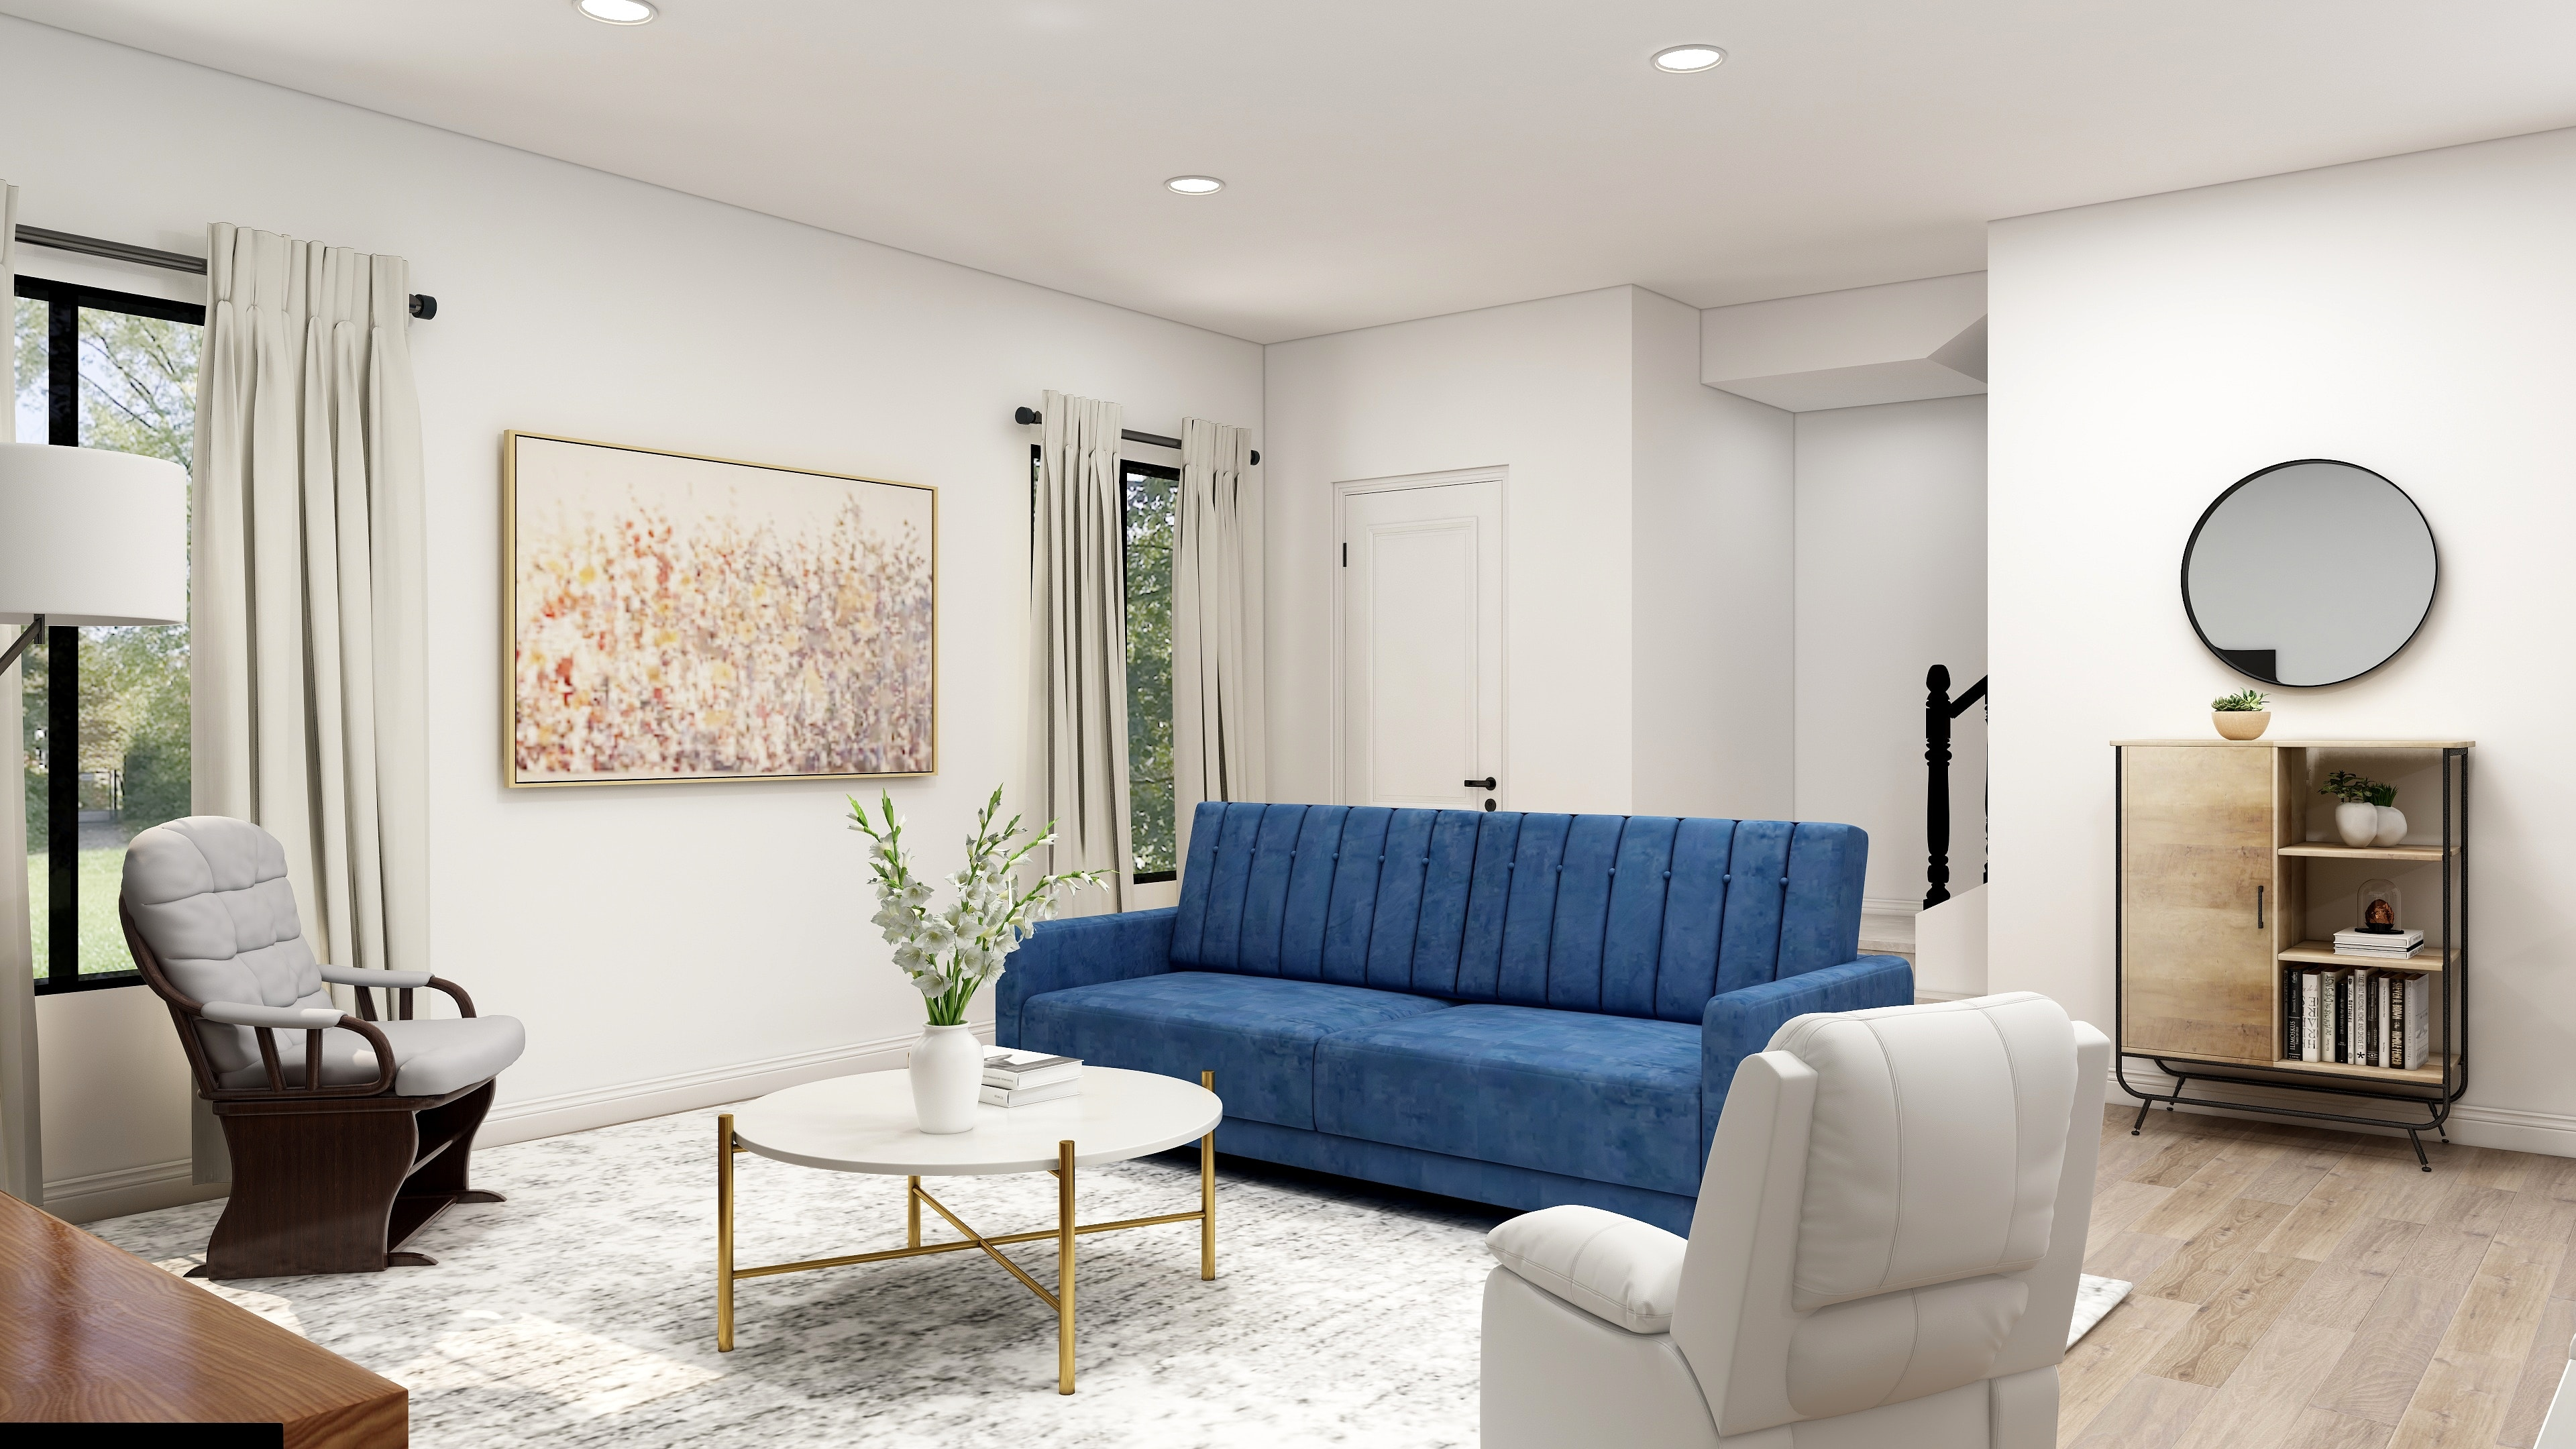Chair: (96, 795, 534, 1299)
Painting: (486, 426, 960, 783)
Plant: (834, 792, 1110, 1131)
Sofa: (969, 795, 1941, 1248)
Table: (684, 1044, 1233, 1395)
